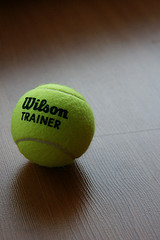tennis ball: (10, 82, 95, 167)
